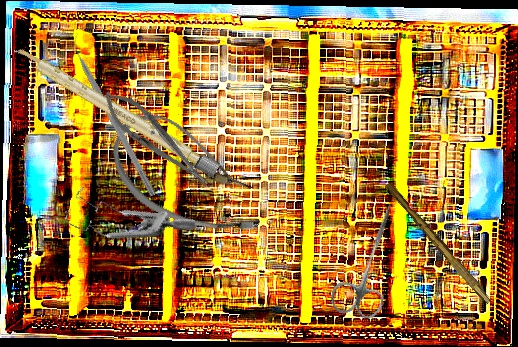Cannula: (96, 103, 284, 251)
Chopper: (66, 31, 165, 197)
Iris Scissors: (327, 193, 414, 325)
Needle Holder: (94, 81, 218, 198)
Scalpel Handle: (10, 43, 221, 178), (382, 181, 496, 305)
Speculum: (54, 151, 198, 276)
